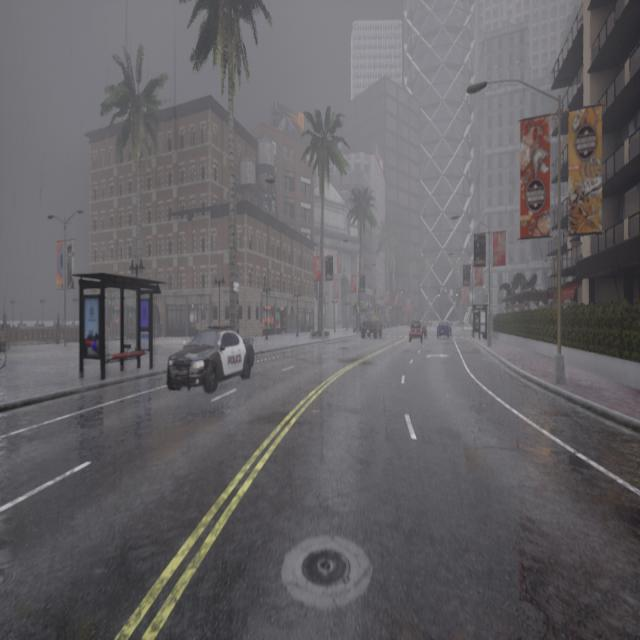9: (486, 295, 488, 305), (456, 288, 458, 298), (438, 289, 440, 298)
bien_hieu_lenh: (456, 293, 458, 297), (438, 294, 440, 298), (487, 302, 488, 305)
